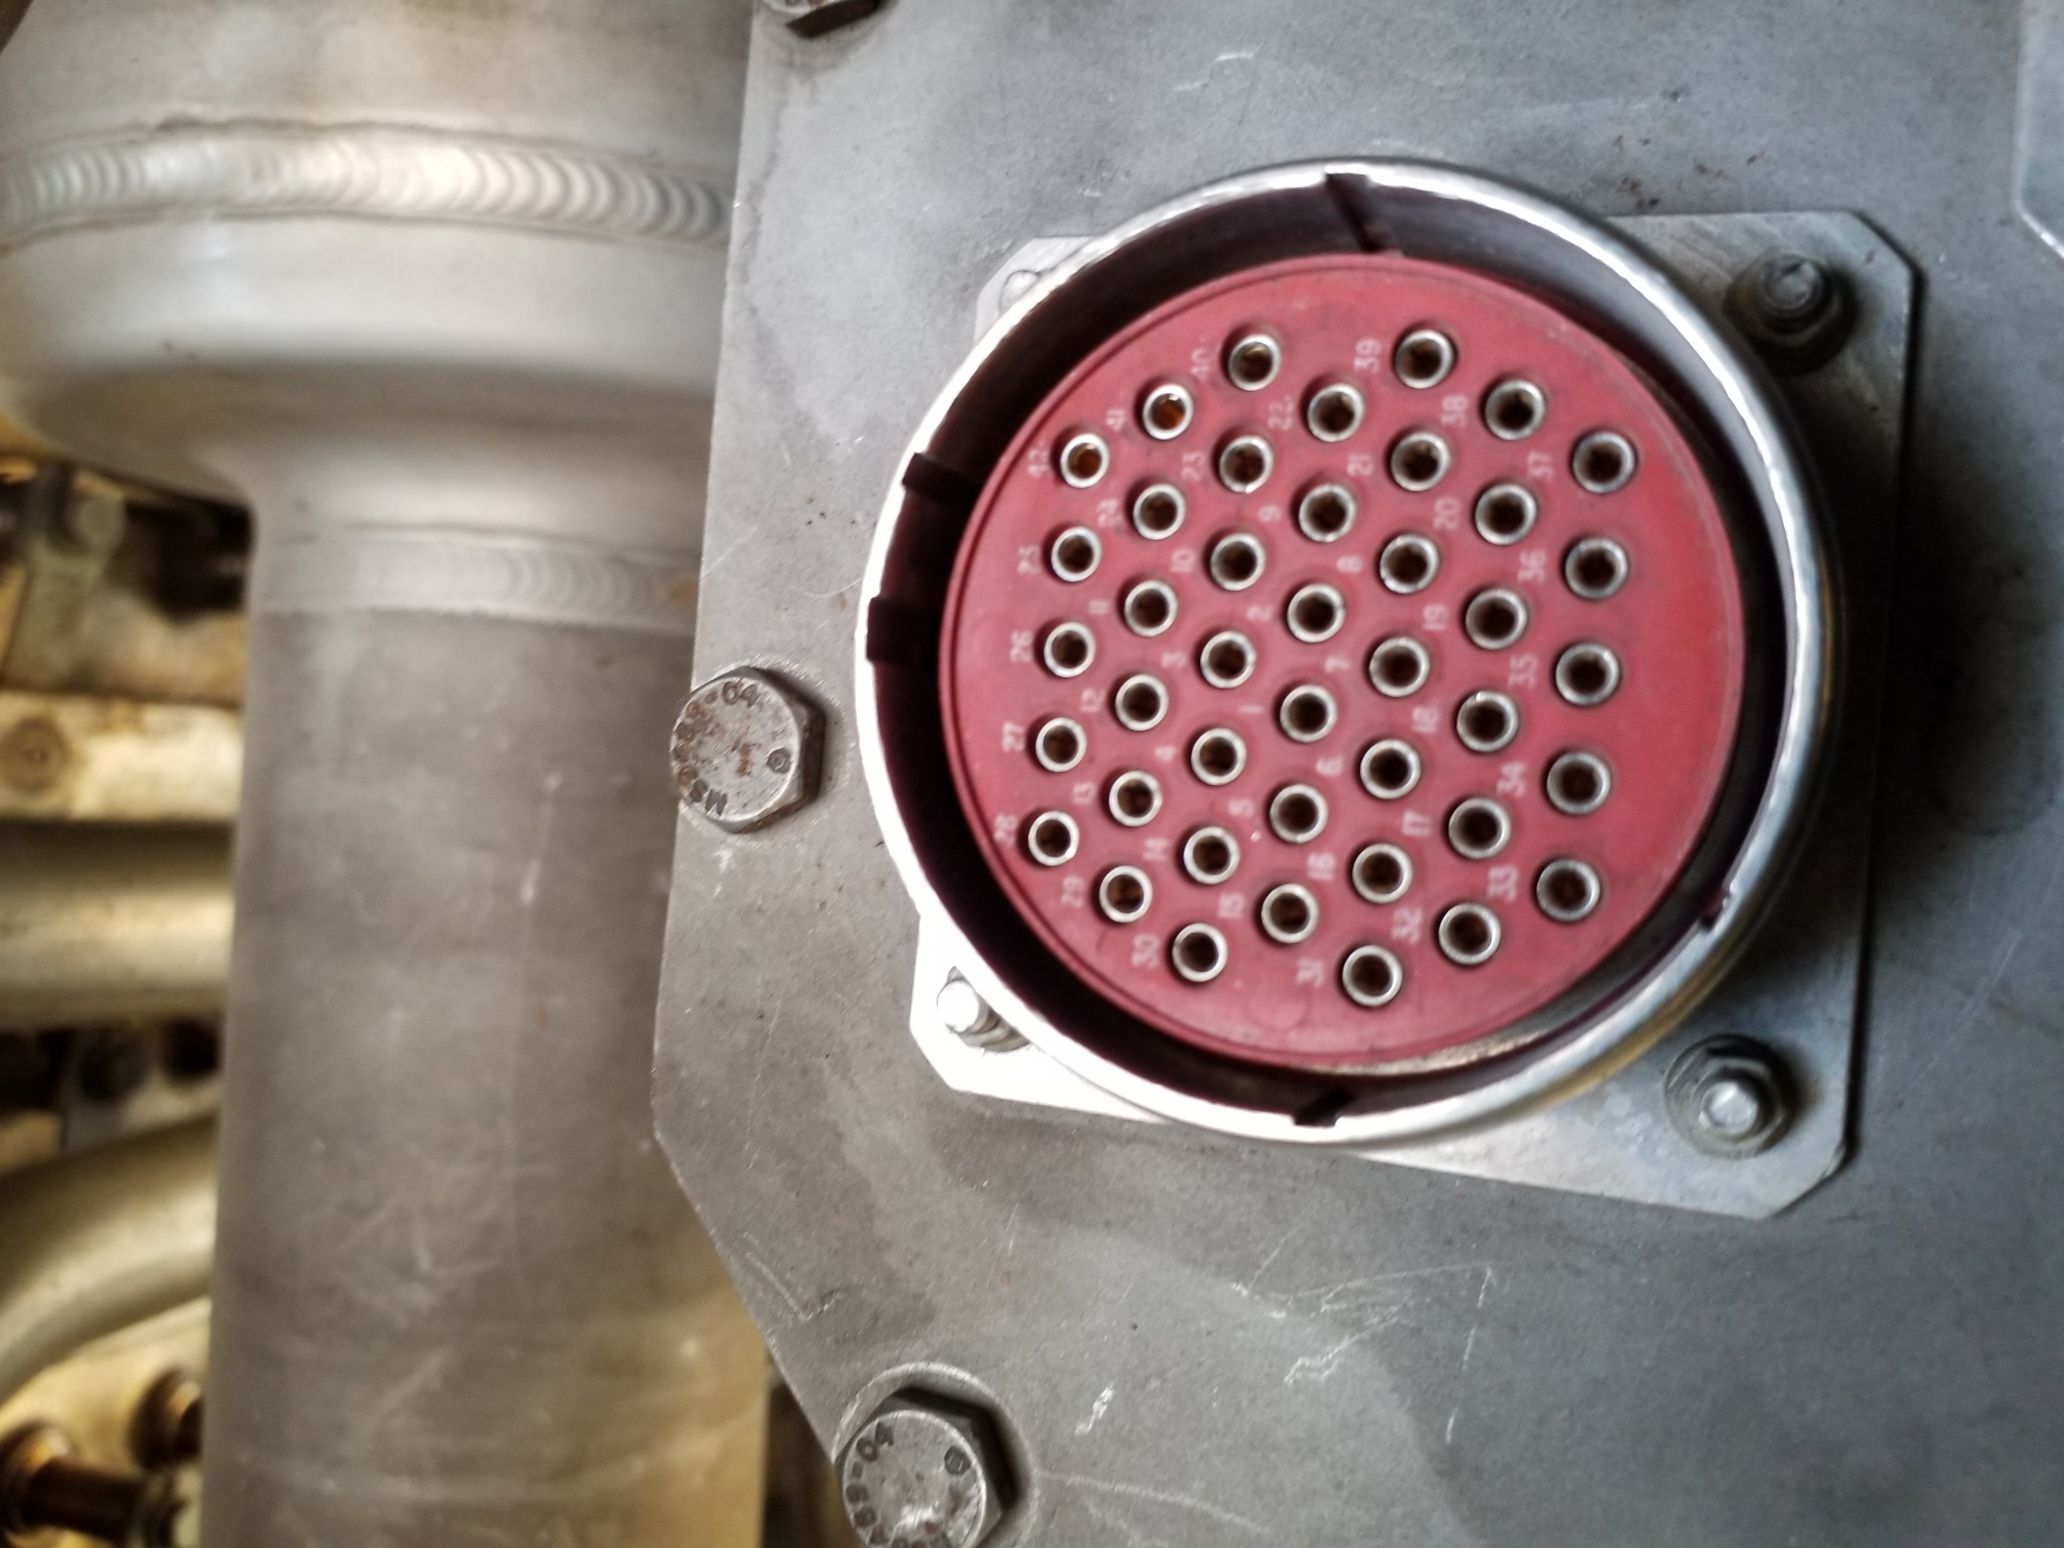inletnumbers: (834, 141, 1846, 1148)
